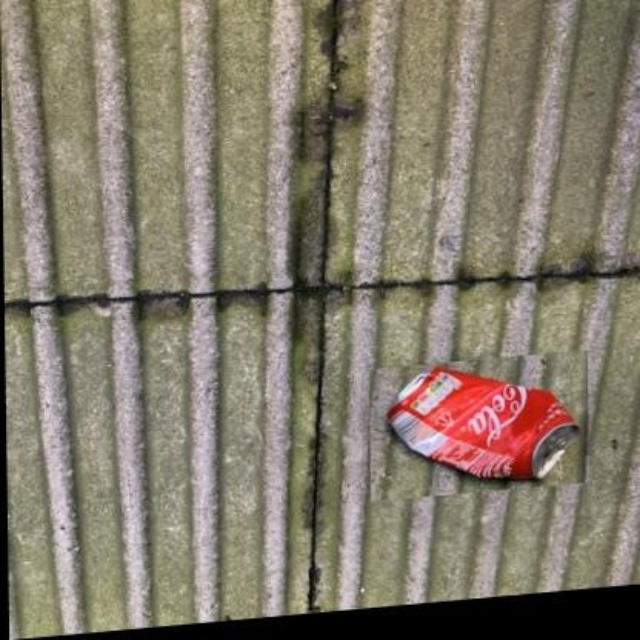trash: (388, 368, 577, 477)
